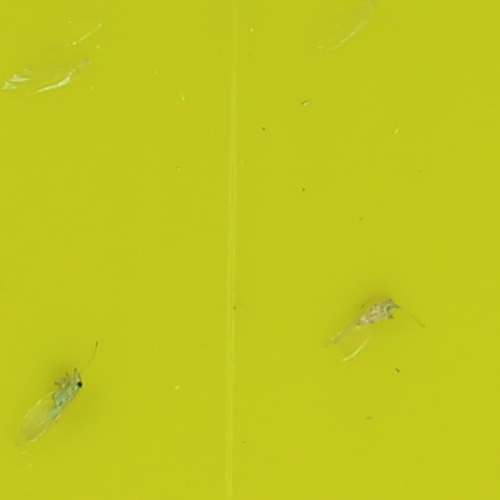Glycaspis: (51, 366, 83, 418), (356, 297, 399, 327)
